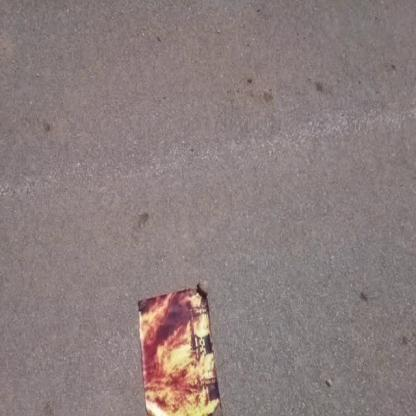fire-poster: (136, 281, 224, 415)
